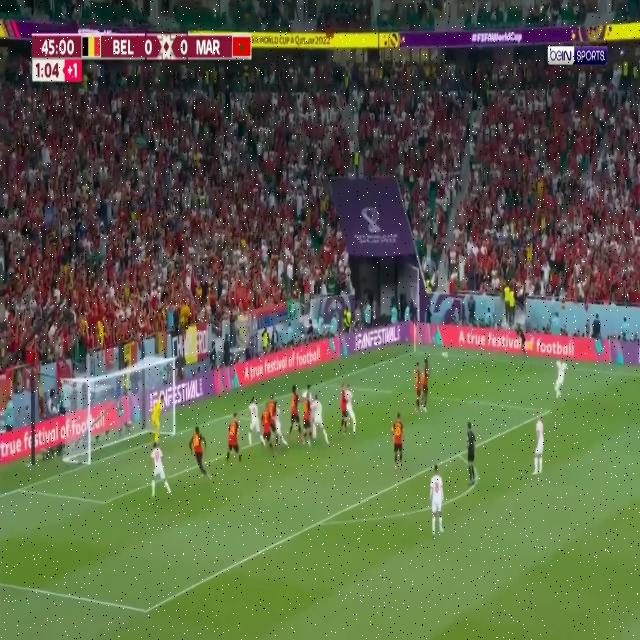GoalKeeper: (149, 393, 166, 444)
Referee: (466, 418, 478, 488), (515, 322, 528, 350)
TEAM 1: (189, 425, 212, 484), (227, 412, 239, 471), (392, 411, 404, 469), (290, 382, 299, 438), (414, 362, 422, 412), (262, 408, 270, 454), (340, 381, 346, 433), (304, 398, 310, 447), (424, 357, 429, 413), (268, 399, 274, 414)
TEAM 2: (150, 440, 172, 502), (430, 460, 446, 541), (313, 389, 331, 449), (532, 411, 546, 481), (553, 353, 568, 408), (247, 397, 261, 450), (346, 385, 359, 438), (276, 401, 288, 449), (302, 380, 313, 397)
